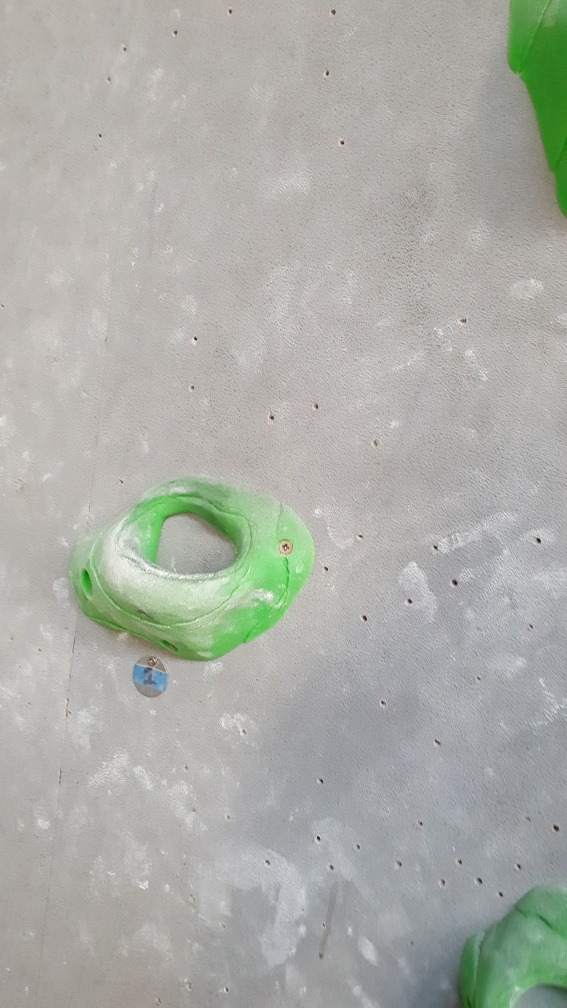Hand Start: (124, 652, 171, 703)
Pocket: (63, 469, 320, 666), (458, 876, 565, 1004)
